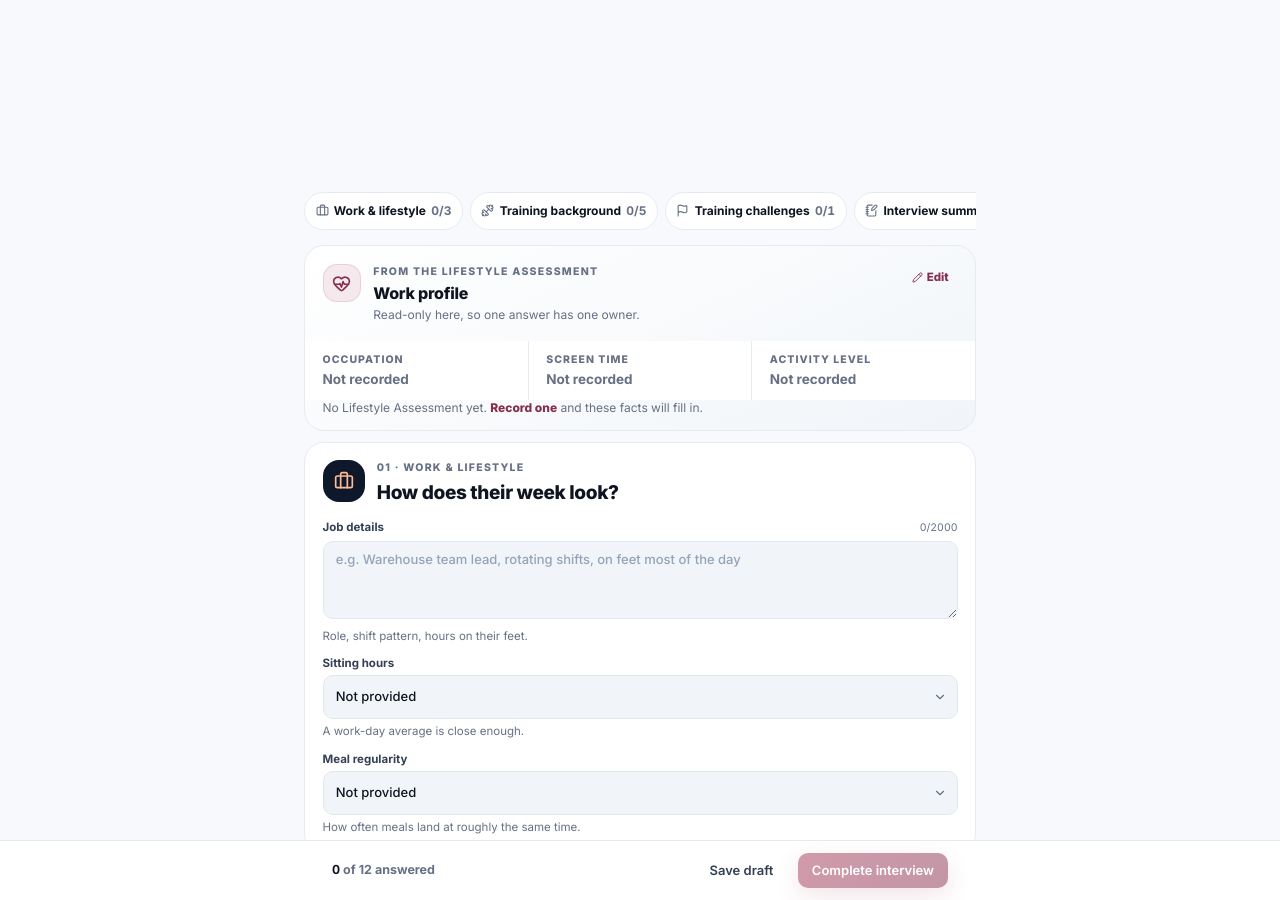
Test: <InterviewPage /> › starts at 0 of 12 visible answers and cannot complete an empty interview
Expected: the button "Complete interview" is disabled, [798, 853, 948, 888]
Replace the text in the text box labelled "Job details" with "Warehouse team lead": (640, 580) [322, 541, 958, 619]
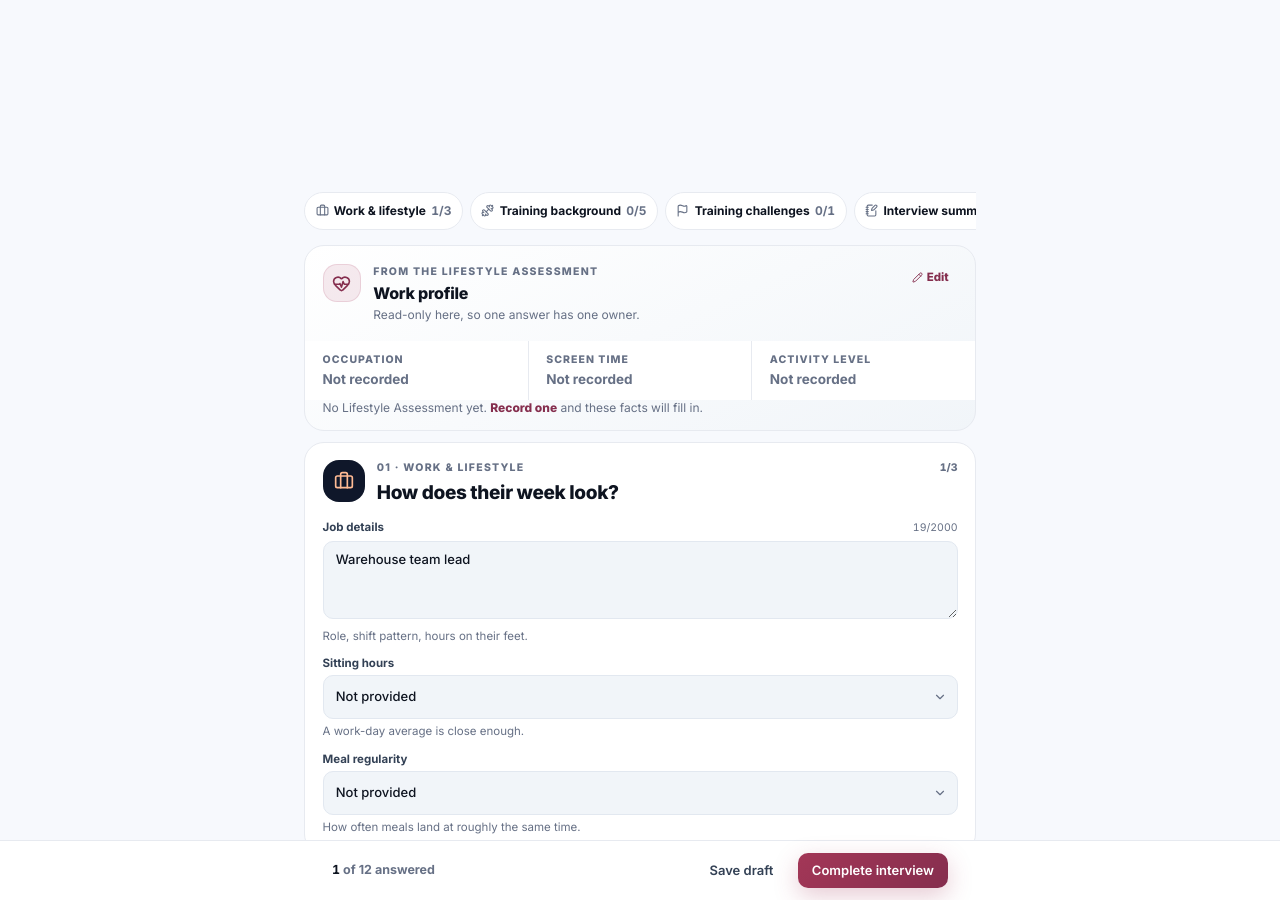
Expected: the button "Complete interview" is enabled, [798, 853, 948, 888]
